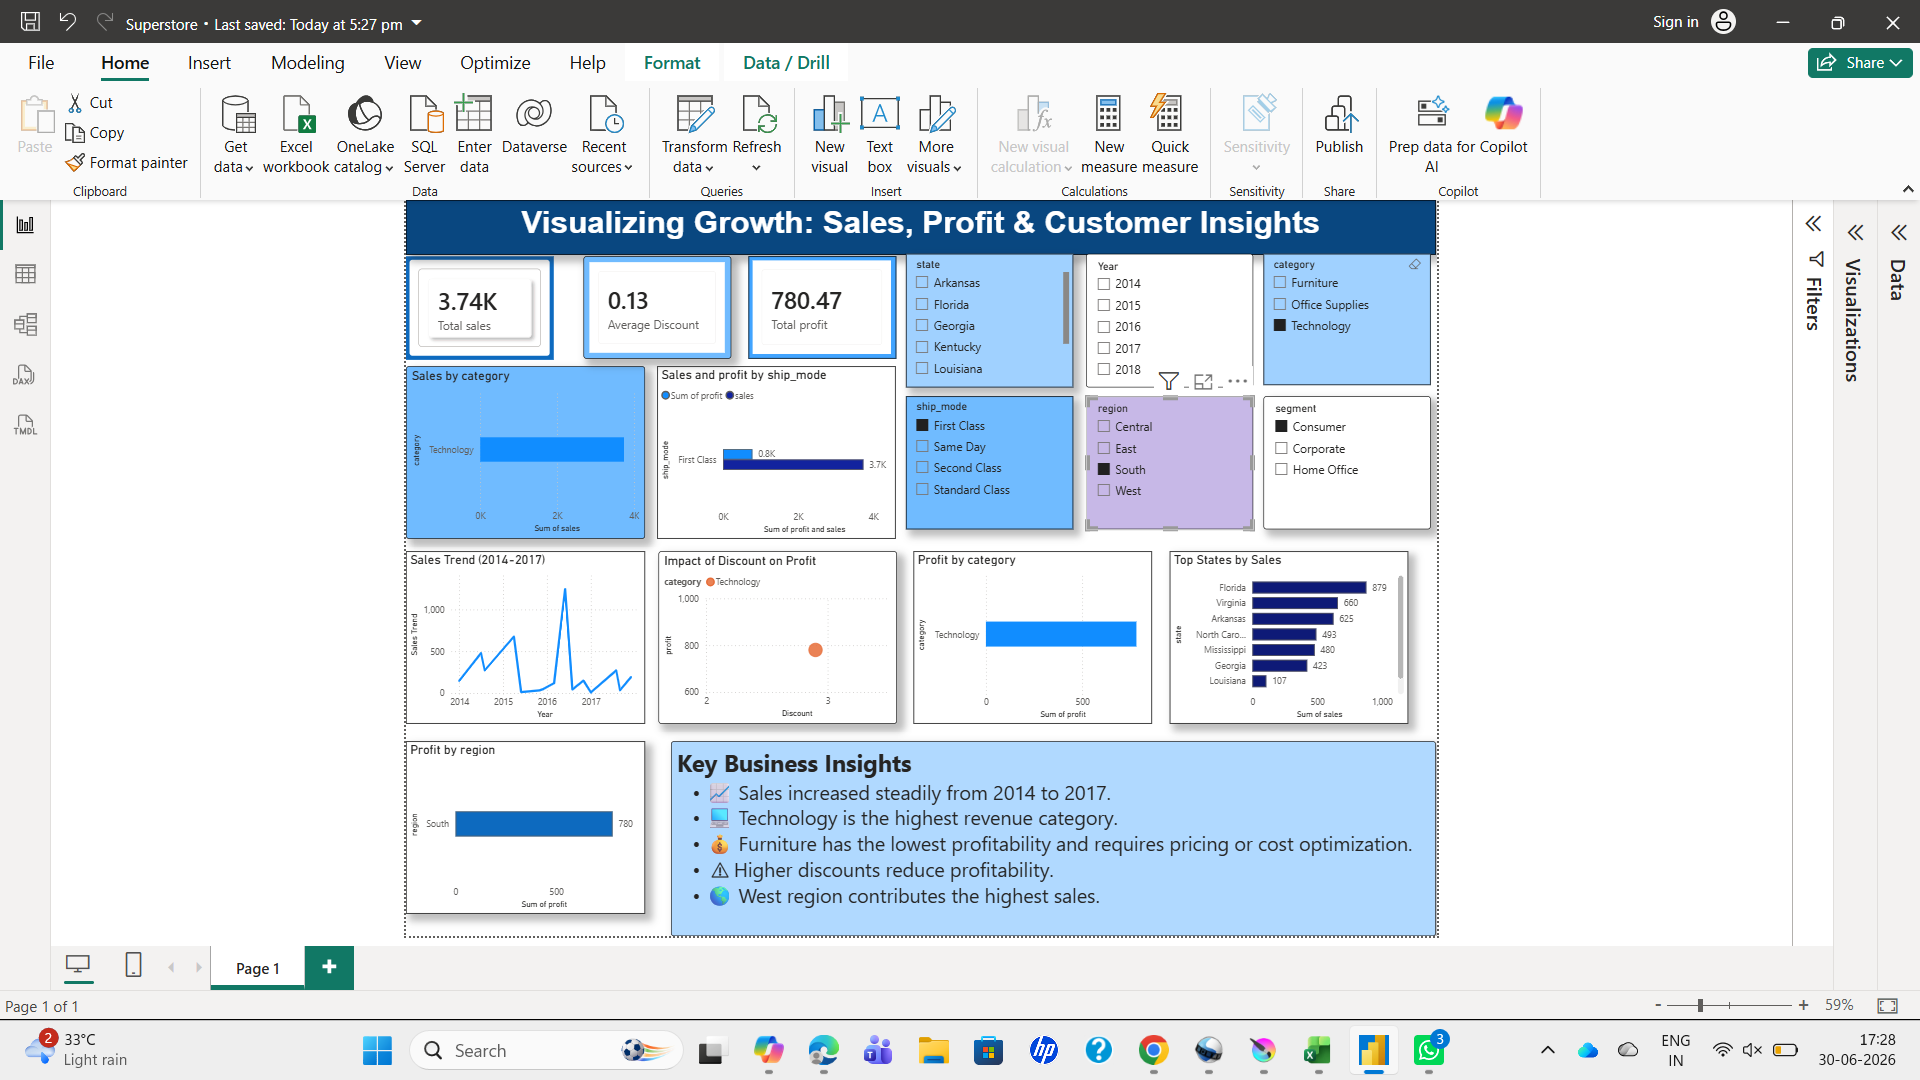

The dashboard page shown, as its layout file describes it:
{"tool":"powerbi","page":{"name":"Page 1","canvas":[1400,1000],"ordinal":0},"visuals":[{"type":"cardVisual","fields":{"Data":["Sum(cleaned_superstore.sales)"]},"box":[0,76.4,200.4,141],"z":0},{"type":"clusteredBarChart","title":"Sales by category","fields":{"Category":["cleaned_superstore.category"],"Y":["Sum(cleaned_superstore.sales)"]},"box":[0,225,325,234.6],"z":1000},{"type":"lineChart","title":"Sales Trend (2014-2017)","fields":{"Y":["Sum(cleaned_superstore.sales)"],"Category":["cleaned_superstore.order_date.Variation.Date Hierarchy.Year","cleaned_superstore.order_date.Variation.Date Hierarchy.Month"]},"box":[0,477.5,325,234],"z":2000},{"type":"scatterChart","title":"Impact of Discount on Profit","fields":{"X":["Sum(cleaned_superstore.discount)"],"Y":["Sum(cleaned_superstore.profit)"],"Series":["cleaned_superstore.category"],"Size":["Sum(cleaned_superstore.sales)"]},"box":[343.1,477.2,324.4,234.4],"z":3000},{"type":"clusteredBarChart","title":"Sales and profit  by ship_mode","fields":{"Category":["cleaned_superstore.ship_mode"],"Y":["Sum(cleaned_superstore.profit)","Sum(cleaned_superstore.sales)"]},"box":[341.4,225.9,324.4,234.4],"z":4000},{"type":"textbox","box":[0,0,1399.5,74.7],"z":4002},{"type":"slicer","fields":{"Values":["cleaned_superstore.region"]},"box":[923.9,266.6,227.6,181],"z":4003},{"type":"slicer","fields":{"Values":["cleaned_superstore.ship_date.Variation.Date Hierarchy.Year"]},"box":[923.9,73,227.6,181.7],"z":4006},{"type":"slicer","fields":{"Values":["cleaned_superstore.category"]},"box":[1165.1,73,227.6,178.3],"z":4007},{"type":"cardVisual","fields":{"Data":["Avg(cleaned_superstore.discount)"]},"box":[241.2,76.4,200.4,139.3],"z":4008},{"type":"cardVisual","fields":{"Data":["Sum(cleaned_superstore.profit)"]},"box":[465.4,76.4,200.4,139.3],"z":4009},{"type":"slicer","fields":{"Values":["cleaned_superstore.state"]},"box":[679.4,73,227.6,181.7],"z":4010},{"type":"clusteredBarChart","title":" Profit by region","fields":{"Category":["cleaned_superstore.region"],"Y":["Sum(cleaned_superstore.profit)"]},"box":[0,735.4,325,234],"z":4011},{"type":"barChart","title":" Profit by category","fields":{"Y":["Sum(cleaned_superstore.profit)"],"Category":["cleaned_superstore.category"]},"box":[689.5,477.2,324.4,234.4],"z":4012},{"type":"slicer","fields":{"Values":["cleaned_superstore.ship_mode"]},"box":[679.4,266.6,227,181],"z":4013},{"type":"slicer","fields":{"Values":["cleaned_superstore.segment"]},"box":[1165.1,266.6,227,181],"z":4014},{"type":"clusteredBarChart","title":"Top States by Sales","fields":{"Category":["cleaned_superstore.state"],"Y":["Sum(cleaned_superstore.sales)"]},"box":[1037.7,477.2,324.4,234.4],"z":4015},{"type":"textbox","box":[360.1,735.4,1039.4,264.9],"z":4016}]}

Visuals, with their boxes on the page's 1400x1000 design canvas (x1, y1, x2, y2). These are canvas units, not pixel positions in the 1920x1080 screenshot, which may show the page scaled, cropped or inside an application window:
cardVisual - Sum(cleaned_superstore.sales): (left=0, top=76, right=200, bottom=217)
"Sales by category" clusteredBarChart: (left=0, top=225, right=325, bottom=460)
"Sales Trend (2014-2017)" lineChart: (left=0, top=478, right=325, bottom=712)
"Impact of Discount on Profit" scatterChart: (left=343, top=477, right=668, bottom=712)
"Sales and profit  by ship_mode" clusteredBarChart: (left=341, top=226, right=666, bottom=460)
textbox: (left=0, top=0, right=1400, bottom=75)
slicer - cleaned_superstore.region: (left=924, top=267, right=1152, bottom=448)
slicer - cleaned_superstore.ship_date.Variation.Date Hierarchy.Year: (left=924, top=73, right=1152, bottom=255)
slicer - cleaned_superstore.category: (left=1165, top=73, right=1393, bottom=251)
cardVisual - Avg(cleaned_superstore.discount): (left=241, top=76, right=442, bottom=216)
cardVisual - Sum(cleaned_superstore.profit): (left=465, top=76, right=666, bottom=216)
slicer - cleaned_superstore.state: (left=679, top=73, right=907, bottom=255)
" Profit by region" clusteredBarChart: (left=0, top=735, right=325, bottom=969)
" Profit by category" barChart: (left=690, top=477, right=1014, bottom=712)
slicer - cleaned_superstore.ship_mode: (left=679, top=267, right=906, bottom=448)
slicer - cleaned_superstore.segment: (left=1165, top=267, right=1392, bottom=448)
"Top States by Sales" clusteredBarChart: (left=1038, top=477, right=1362, bottom=712)
textbox: (left=360, top=735, right=1400, bottom=1000)
